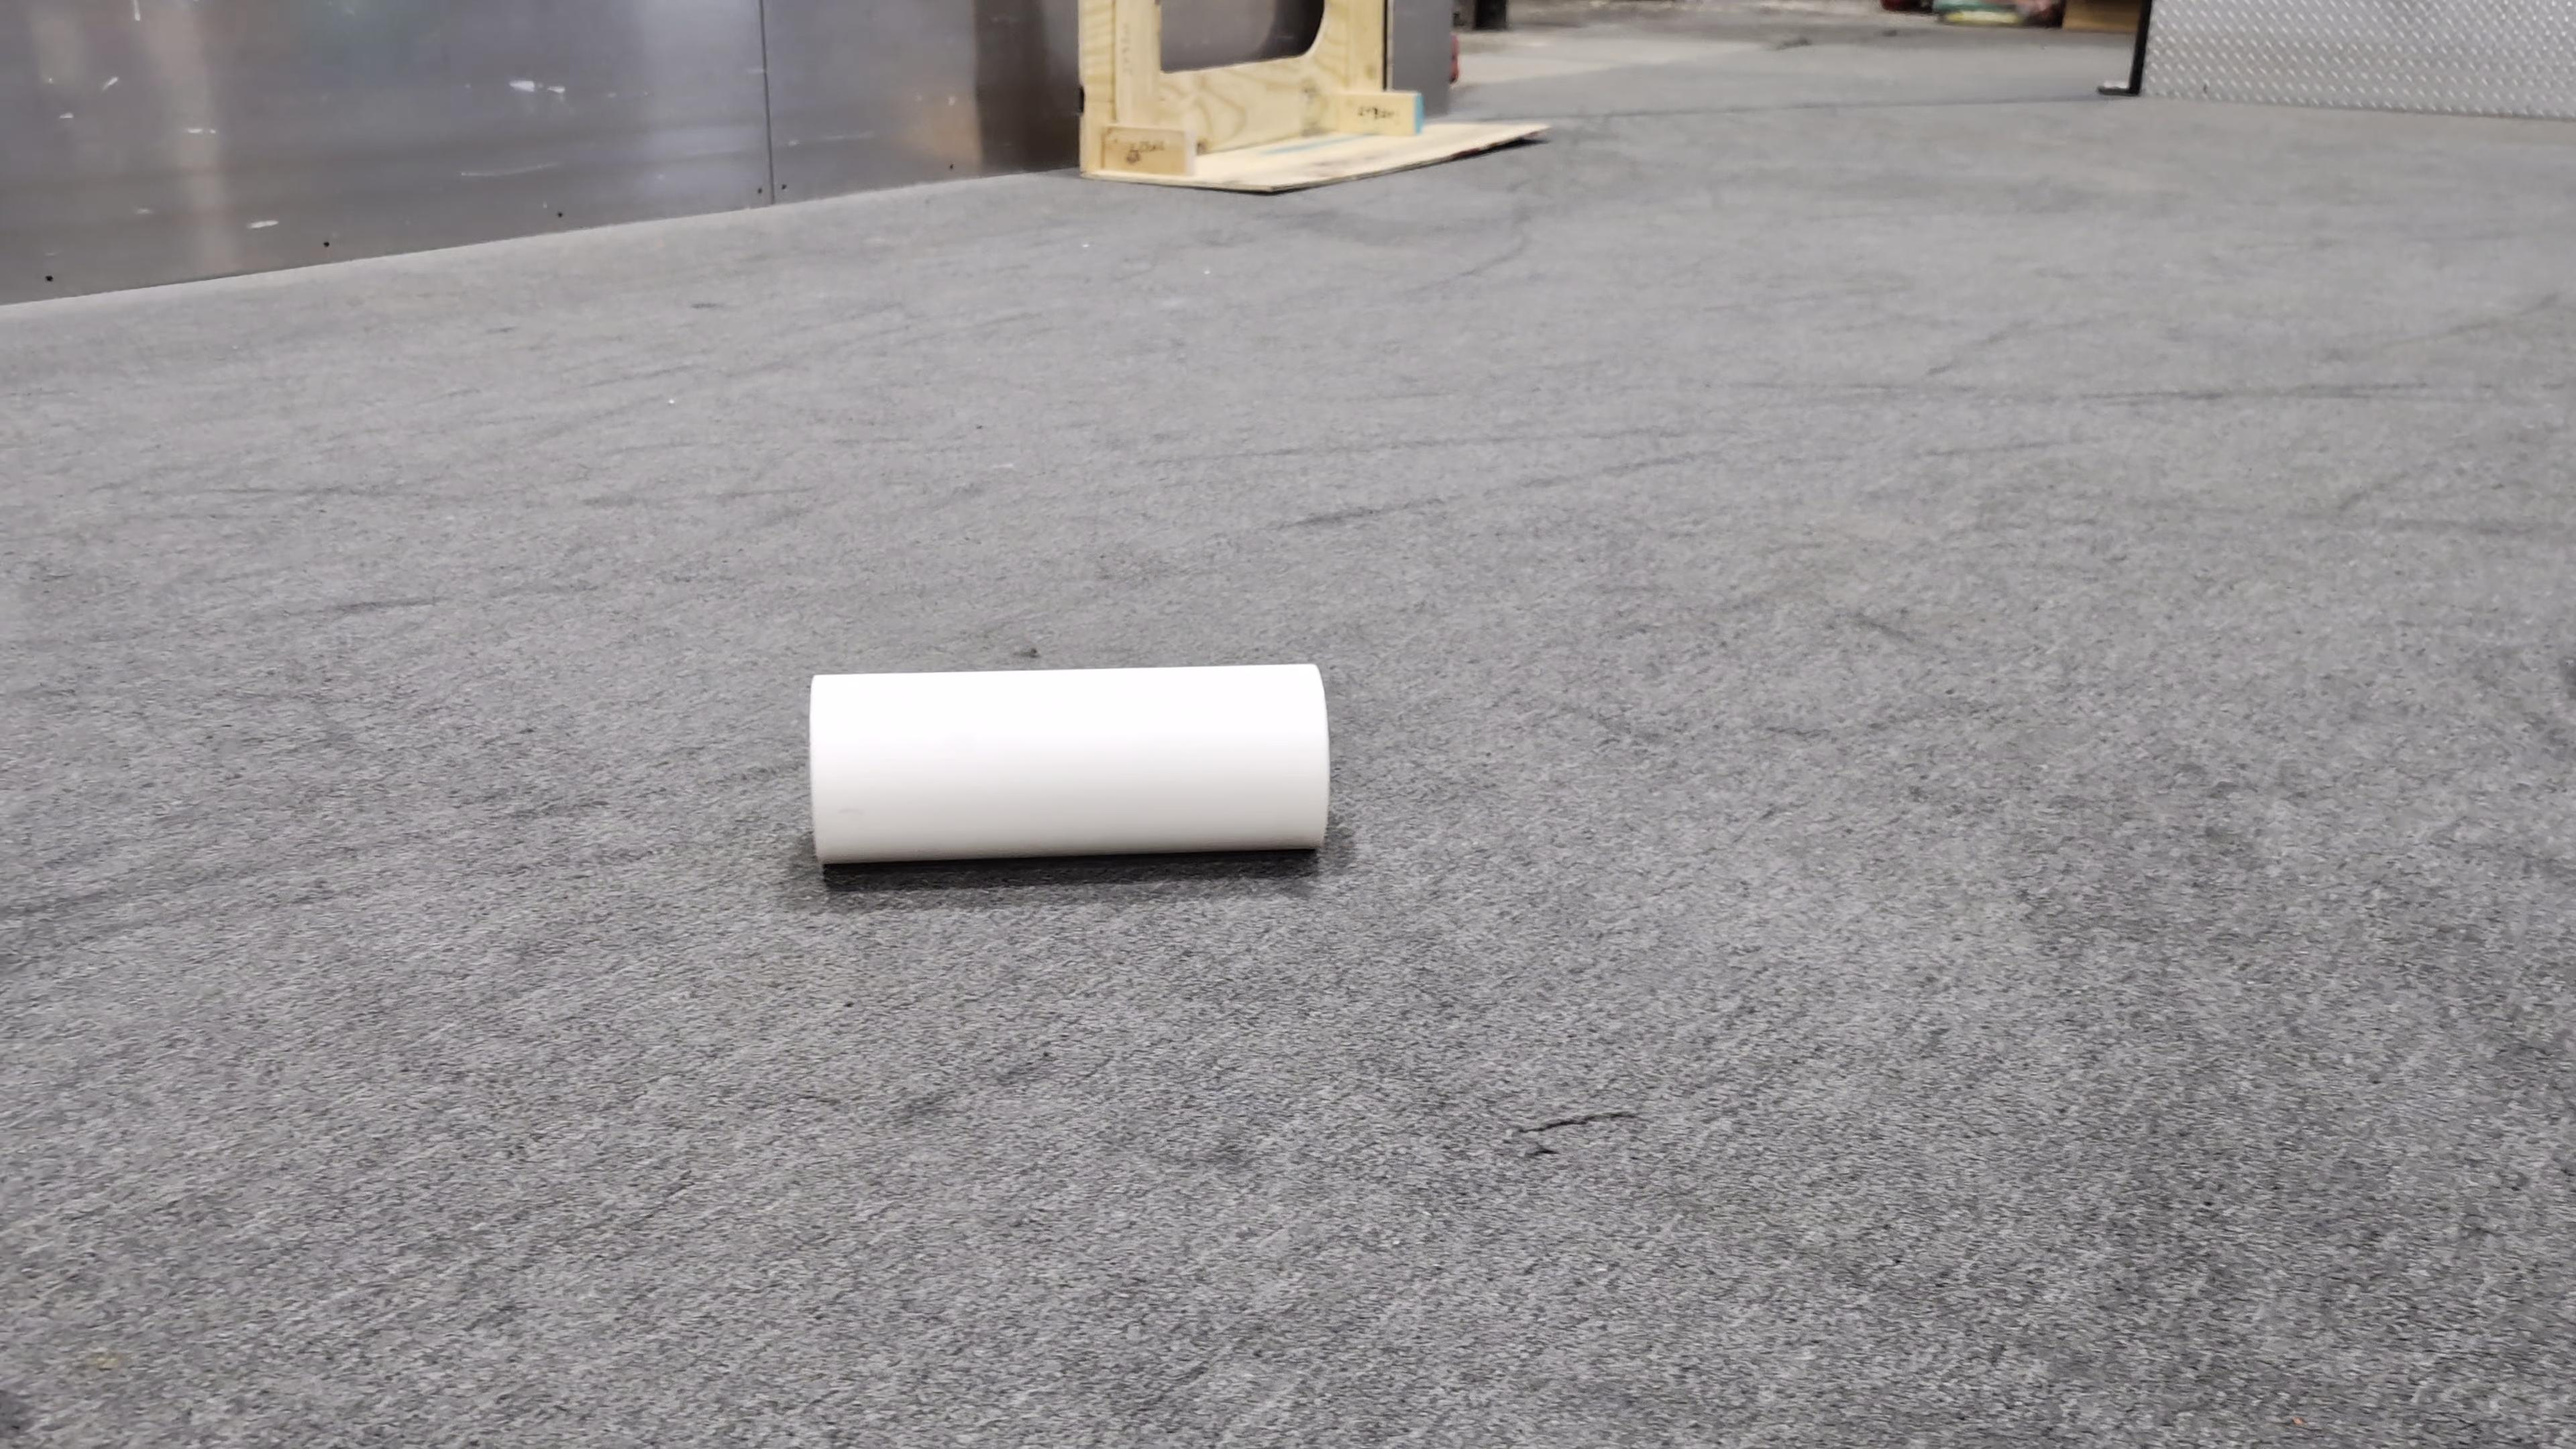coral: (805, 658, 1332, 863)
